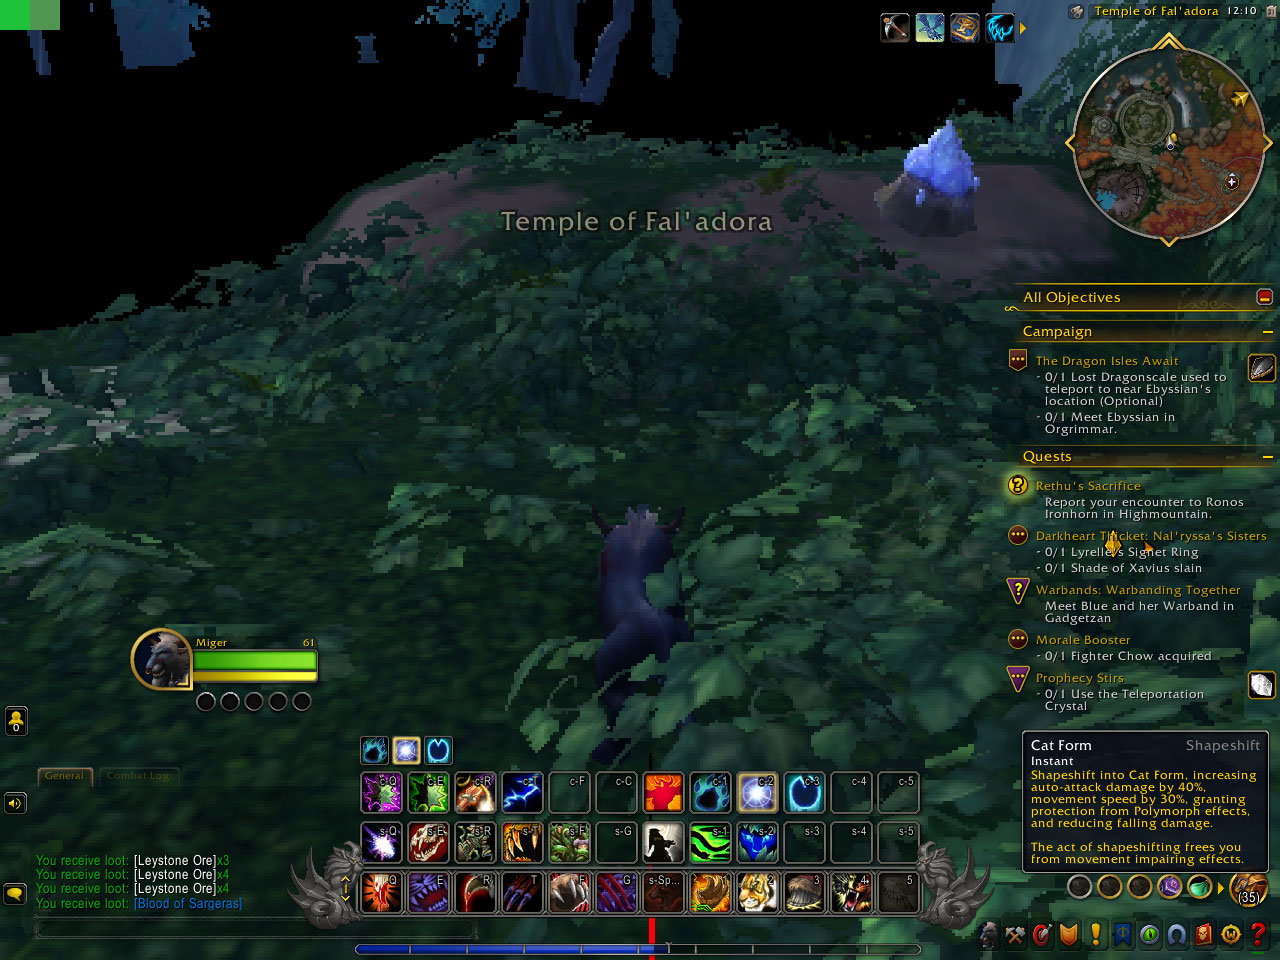ore: (872, 118, 984, 242)
